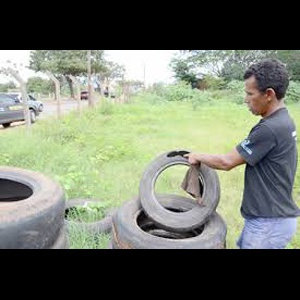tire: (139, 150, 220, 232), (111, 195, 226, 249), (1, 162, 67, 249), (55, 200, 117, 238)
